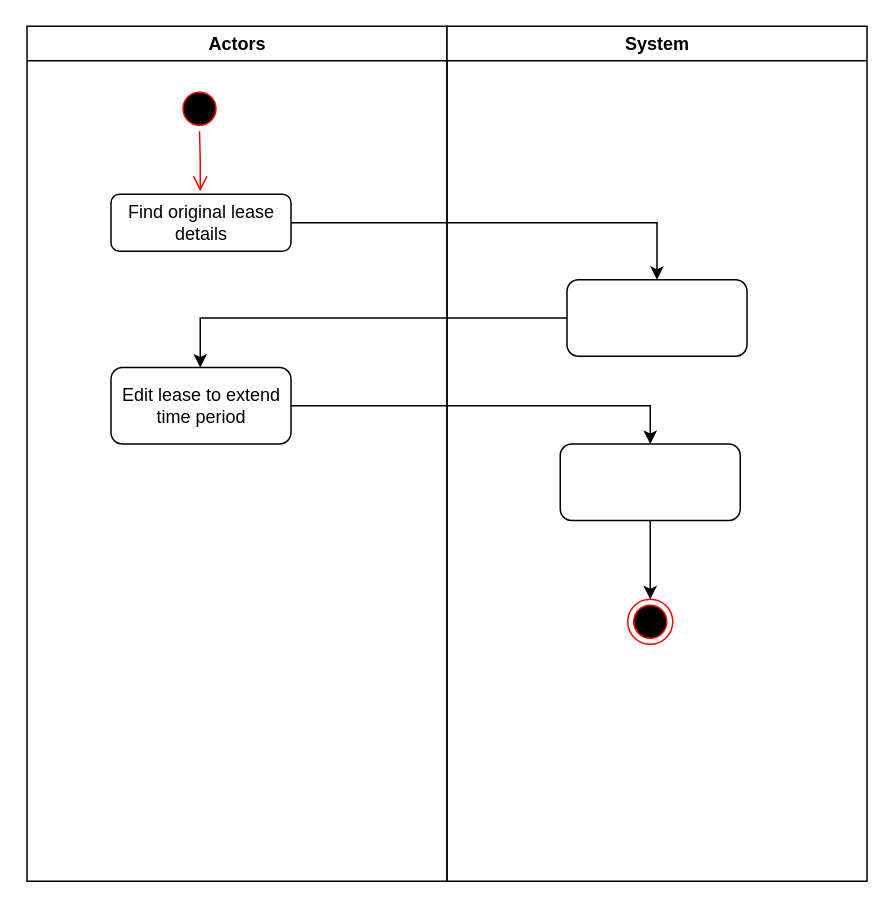
Image size: 893x908. Some labels were removed from this diagram. The shapes that lost their labels are listed below. From the top down, each one's centre as x and y in pixels, then its label:
[656,317]: Logbook shows existing lease information
[649,481]: Logbook updates information about lease
